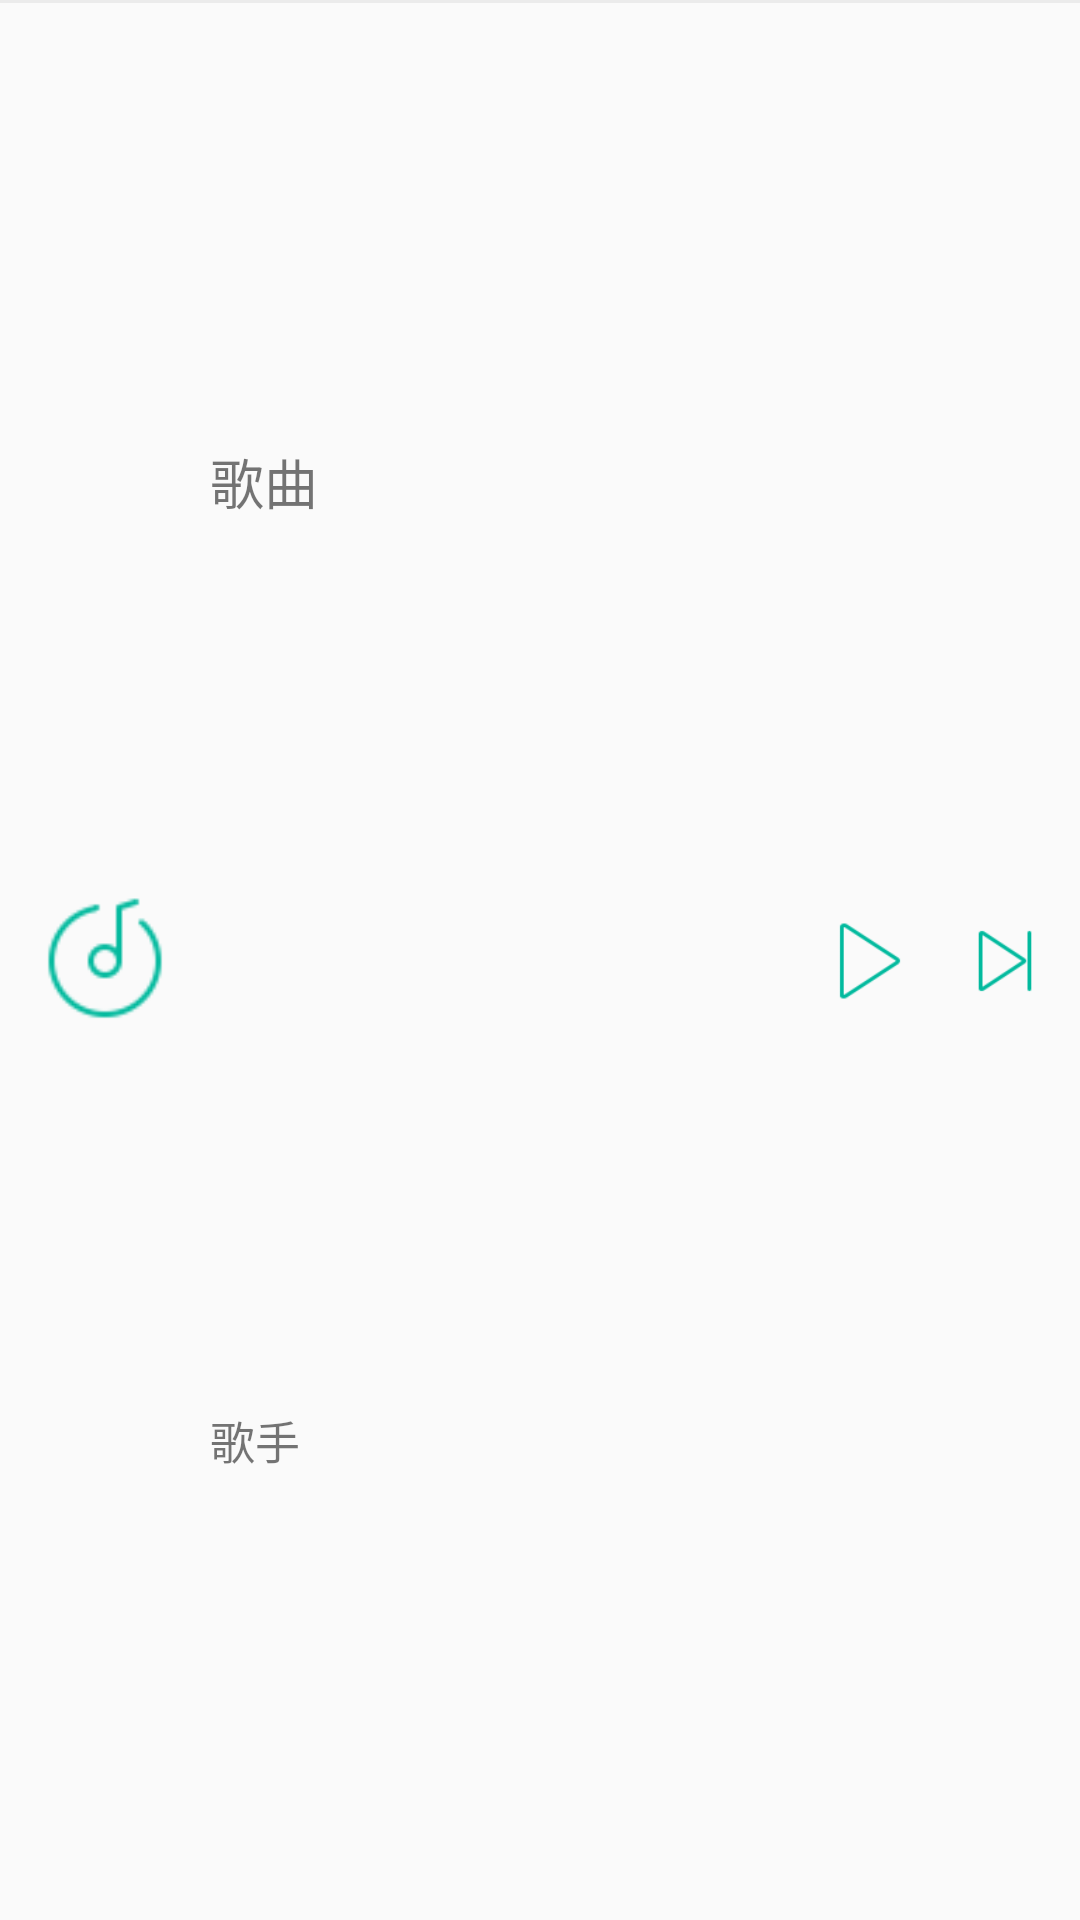

Where to tap for icons on this 1080px x 1920px app screen, as (x=x, y=y):
next: (x=1005, y=961)
play: (x=869, y=961)
